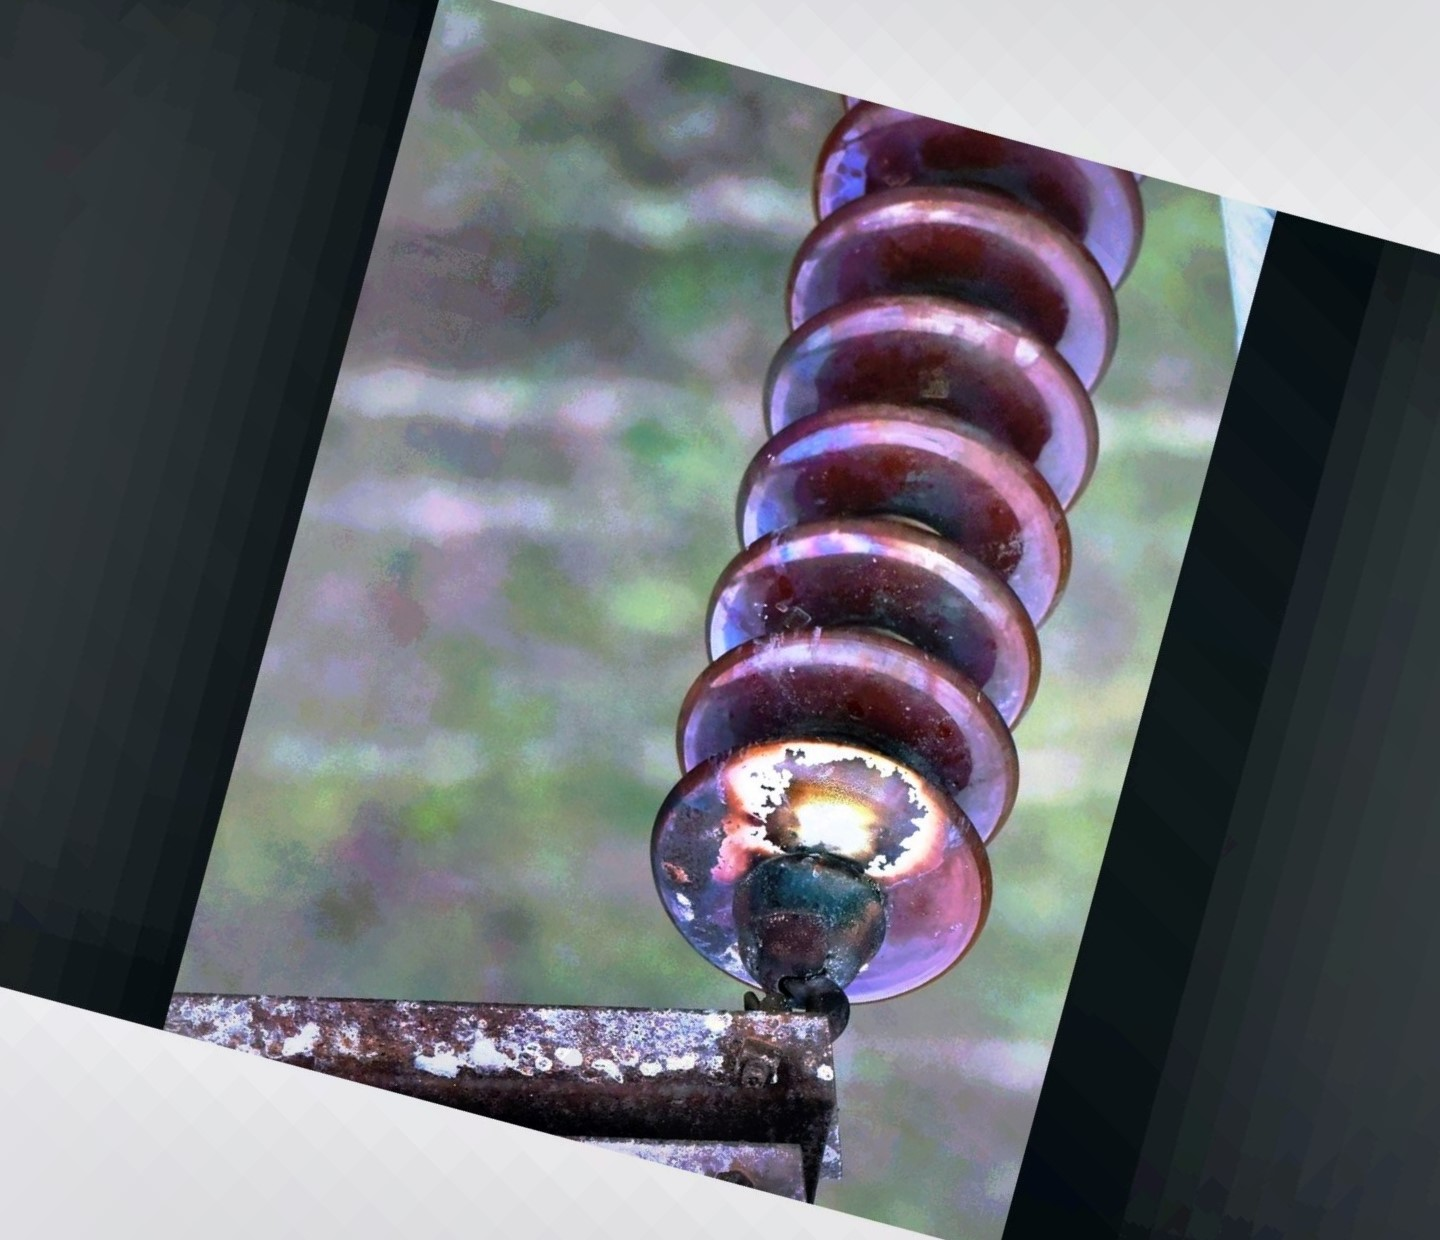Insulator flashover: (626, 711, 1000, 1033)
